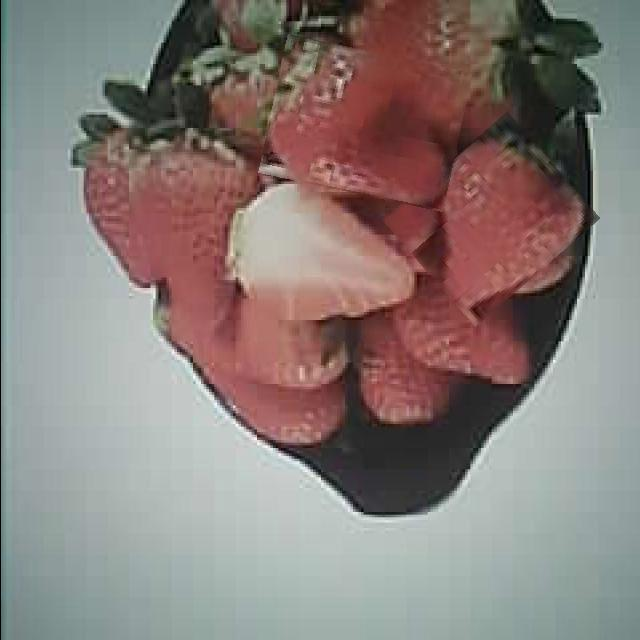strawberry: (394, 129, 586, 309), (264, 42, 466, 202)
